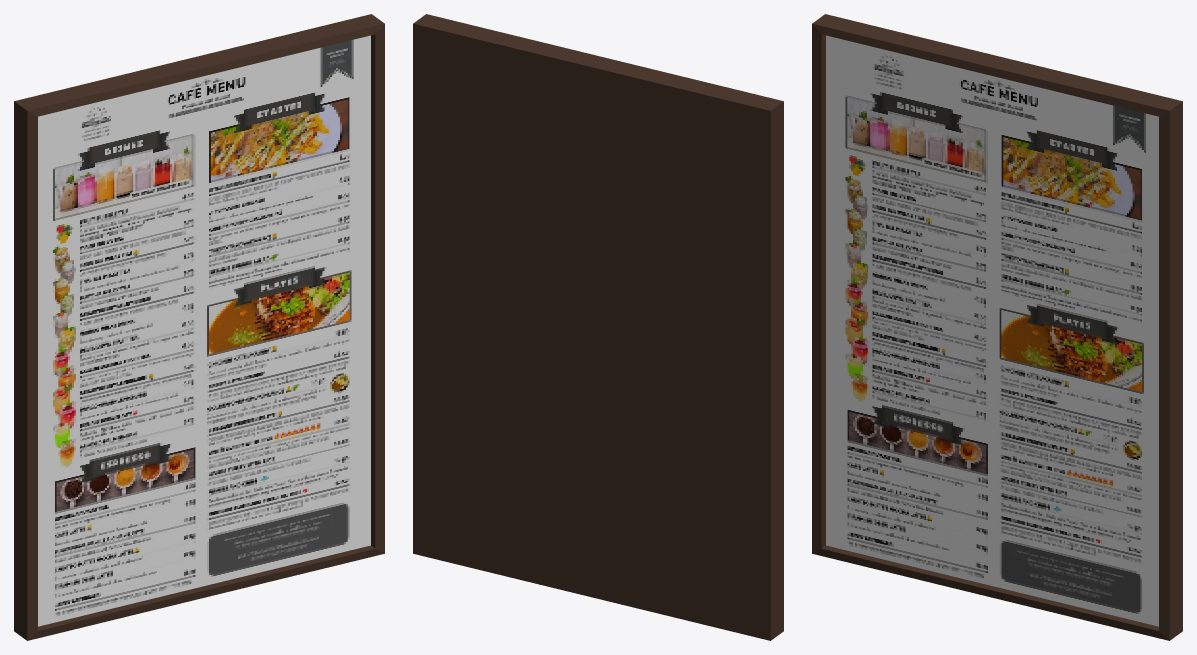
Rendered from canvas2.fbx.
3 views of the same model, side by side, from view 1: azimuth 30°, elevation 25°; view 2: azimuth 150°, elevation 25°; view 3: azimuth 330°, elevation 25° (orthographic).
Parts seen in each view (by area): view 1: mesh_Canvas.002; view 2: mesh_Canvas.002; view 3: mesh_Canvas.002.
Boxes of the visible parts, box(x1,y1,x2,y2) form: mesh_Canvas.002: box(14, 14, 384, 640); mesh_Canvas.002: box(413, 14, 783, 640); mesh_Canvas.002: box(812, 14, 1182, 640).
Size of the model in its own units: 0.6 by 0.85 by 0.04.
2 materials, 1 textured.
